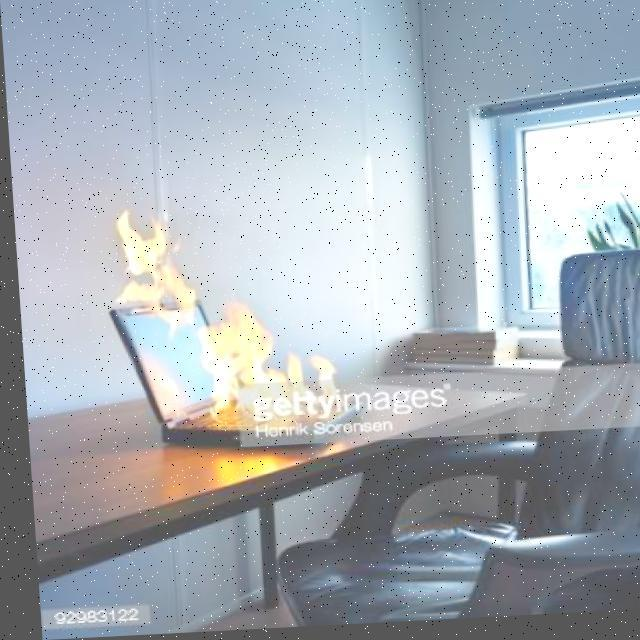Fire: (68, 176, 394, 458)
